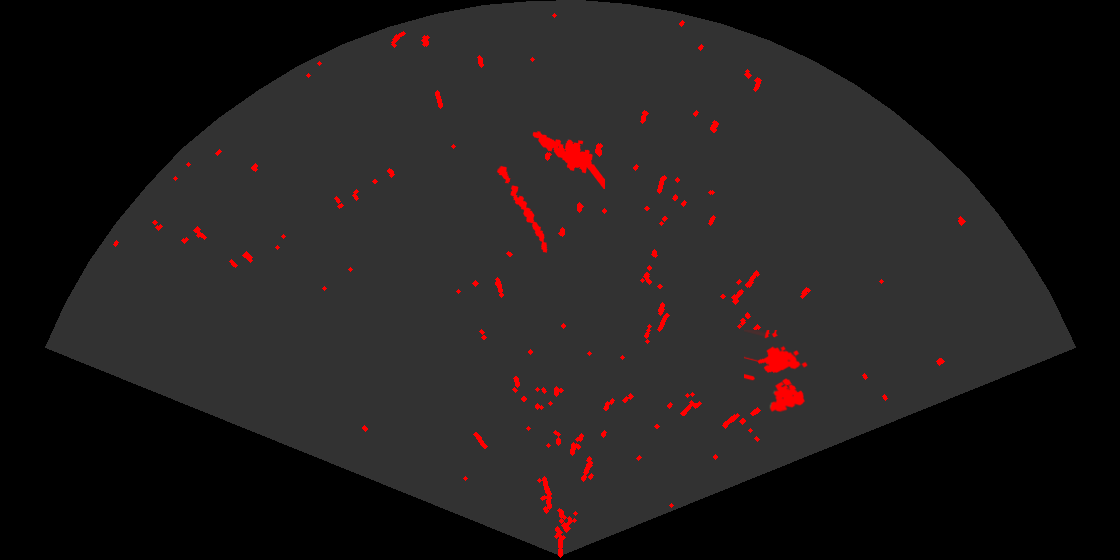cage: (744, 330, 809, 414)
chain: (495, 164, 549, 254)
frogman: (531, 129, 605, 189)
